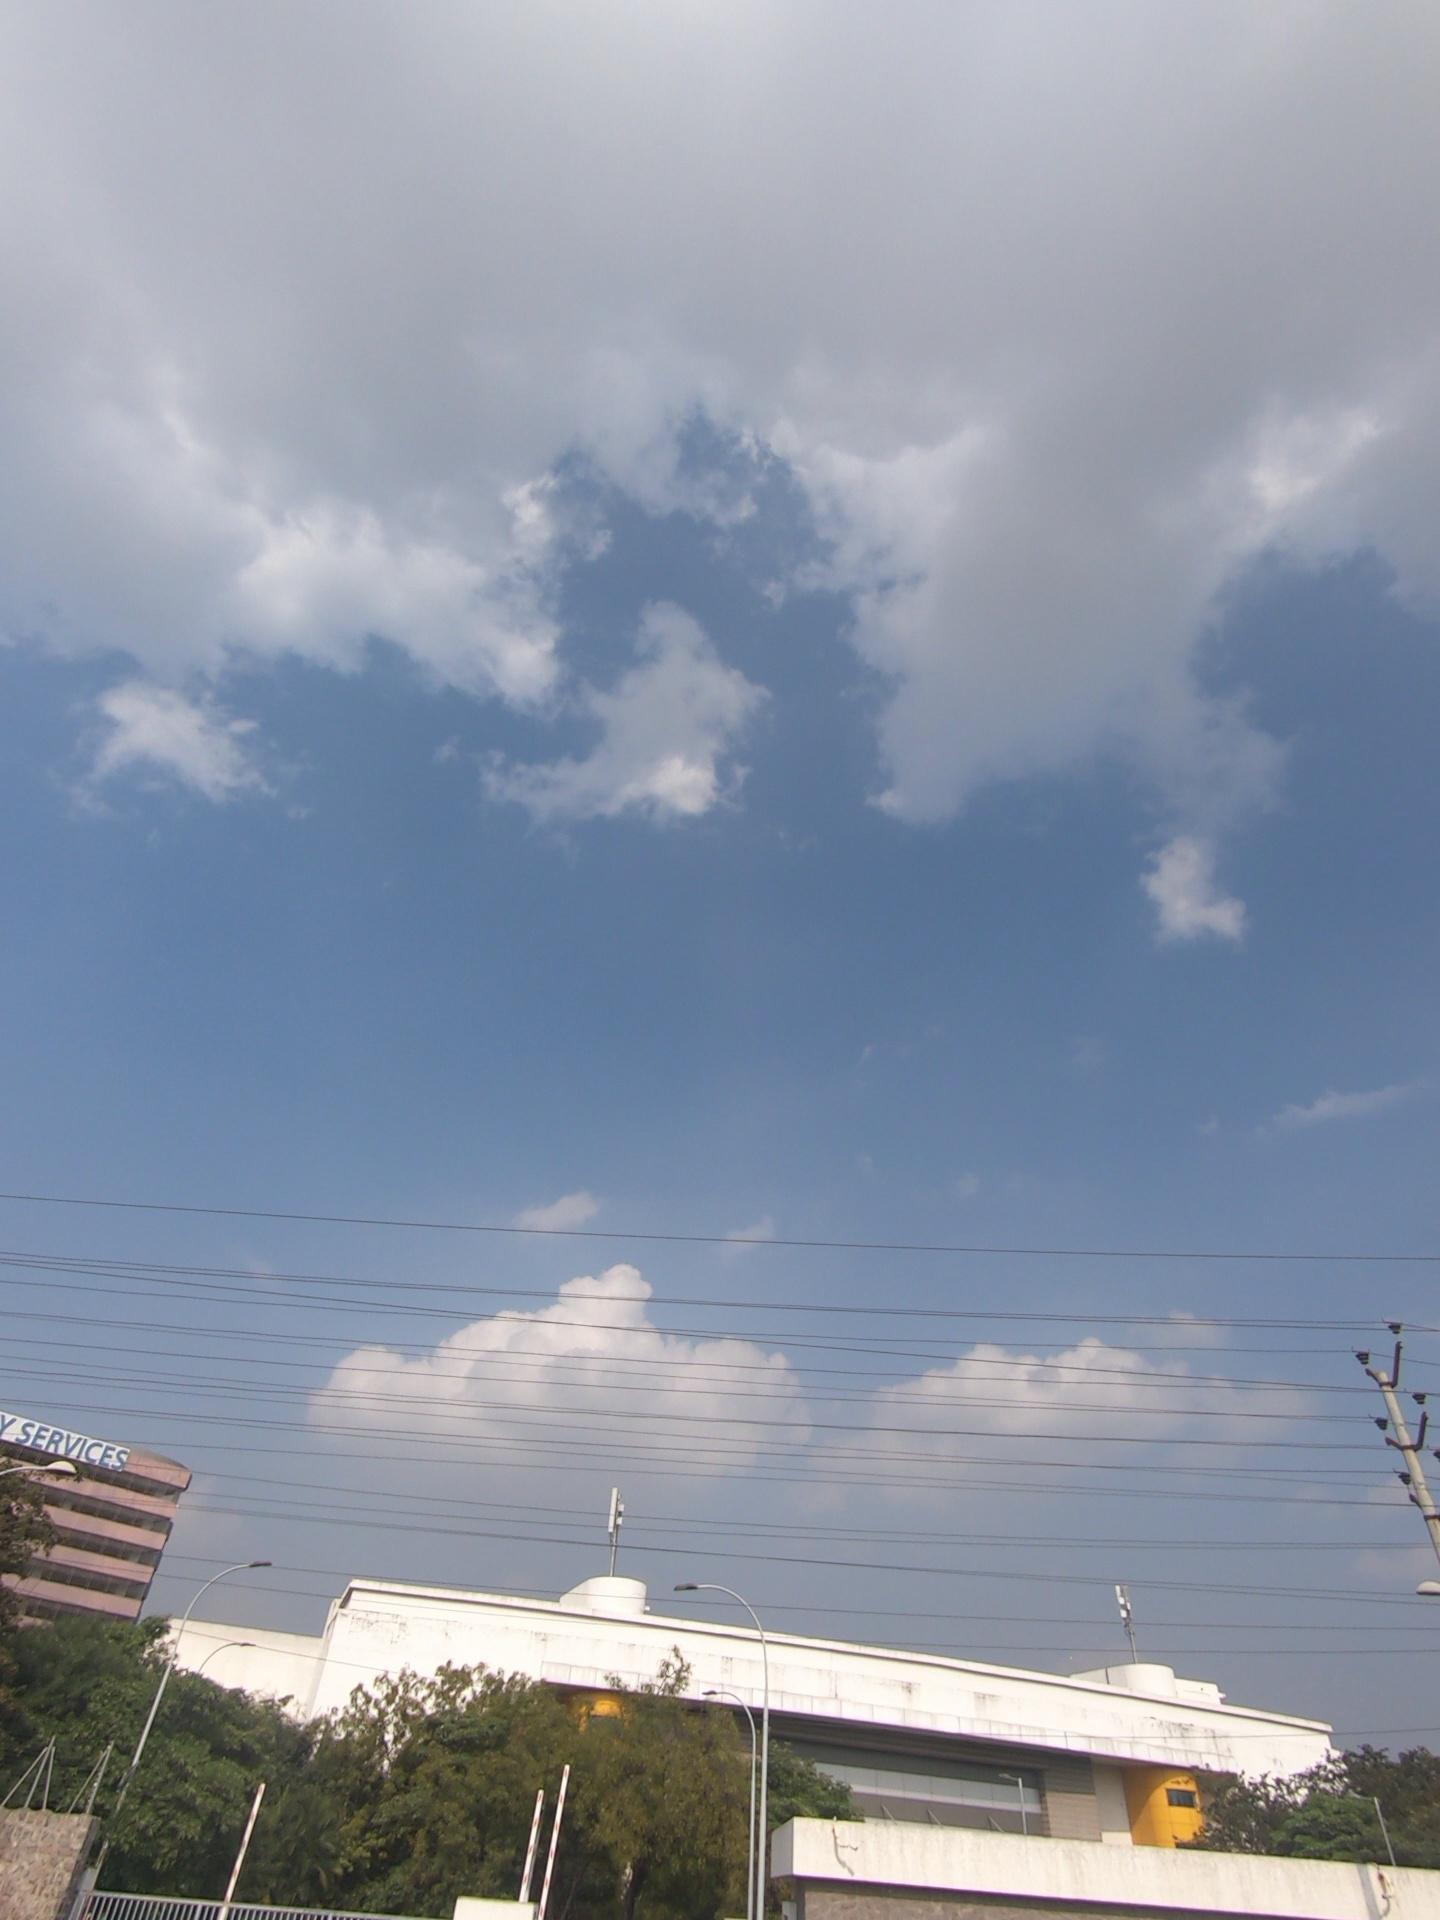off: (445, 1746, 616, 1920)
